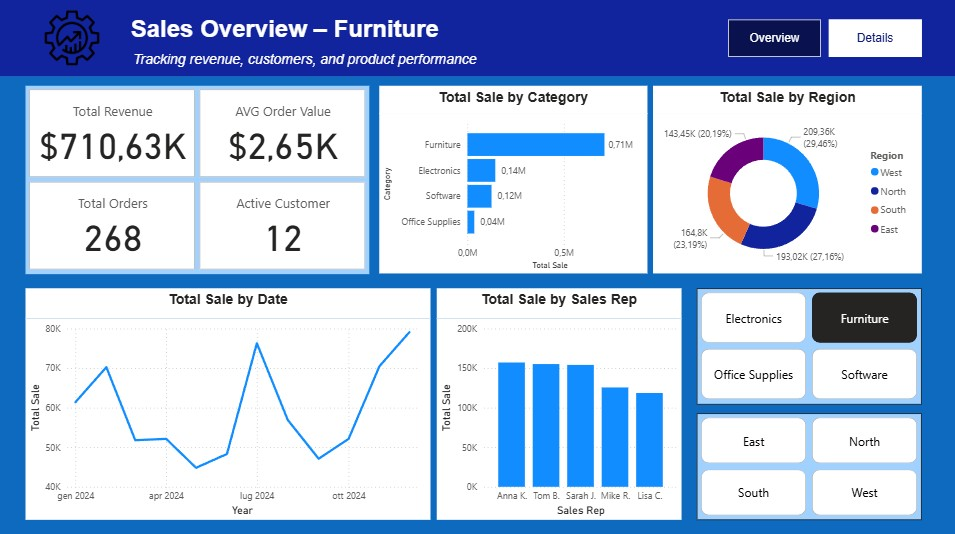

This screenshot's page, from the dashboard's own definition file:
{"tool":"powerbi","page":{"name":"Overview","canvas":[1280,720],"ordinal":0},"visuals":[{"type":"textbox","box":[10,0,280,280],"z":1000},{"type":"shape","box":[0,0,1279.7,106.8],"z":1500},{"type":"shape","box":[0,106.8,1279.7,613.2],"z":2000},{"type":"cardVisual","fields":{"Data":["SalesUS.Total Revenue","SalesUS.AVG Order Value","SalesUS.Total Orders","SalesUS.Total Customer"]},"box":[36.2,117.5,458.8,251.2],"z":3000},{"type":"lineChart","fields":{"Category":["SalesUS.date.Variation.Date Hierarchy.Year","SalesUS.date.Variation.Date Hierarchy.Quarter","SalesUS.date.Variation.Date Hierarchy.Month"],"Y":["Sum(SalesUS.total_sale)"]},"box":[36.2,428.8,540,268.8],"z":4000},{"type":"clusteredBarChart","fields":{"Y":["Sum(SalesUS.total_sale)"],"Category":["SalesUS.category"]},"box":[507.5,155,357.5,213.8],"z":5000},{"type":"donutChart","fields":{"Y":["Sum(SalesUS.total_sale)"],"Category":["SalesUS.region"]},"box":[872.5,155,358.8,213.8],"z":6000},{"type":"clusteredColumnChart","fields":{"Category":["SalesUS.sales_rep"],"Y":["Sum(SalesUS.total_sale)"]},"box":[585,428.8,326.2,268.8],"z":7000},{"type":"advancedSlicerVisual","fields":{"Values":["SalesUS.category"]},"box":[931.2,388.8,300,155],"z":8000},{"type":"advancedSlicerVisual","fields":{"Values":["SalesUS.region"]},"box":[931.2,555,300,142.5],"z":9000},{"type":"textbox","box":[174.6,67.8,479,34.6],"z":10000},{"type":"textbox","box":[585,388.8,326.2,40],"z":11000},{"type":"image","box":[36.1,13,124.1,82.2],"z":12000},{"type":"textbox","box":[36.2,388.8,540,40],"z":13000},{"type":"textbox","box":[507.5,117.5,357.5,37.5],"z":14000},{"type":"textbox","box":[872.5,117.5,358.8,37.5],"z":15000},{"type":"cardVisual","fields":{"Data":["SalesUS.Dynamic Title"]},"box":[160.1,0,526.6,72.1],"z":16000},{"type":"pageNavigator","box":[972.9,30,258.6,50],"z":16003}]}

Visuals, with their boxes in screenshot pixels (x1, y1, x2, y2), scaled from the page's 1280x720 canvas onto the 955x534 screenshot:
textbox: (7,0,216,208)
shape: (0,0,954,79)
shape: (0,79,954,533)
cardVisual - SalesUS.Total Revenue x SalesUS.AVG Order Value: (27,87,369,273)
lineChart - SalesUS.date.Variation.Date Hierarchy.Year x SalesUS.date.Variation.Date Hierarchy.Quarter: (27,318,430,517)
clusteredBarChart - Sum(SalesUS.total_sale) x SalesUS.category: (379,115,645,274)
donutChart - Sum(SalesUS.total_sale) x SalesUS.region: (651,115,919,274)
clusteredColumnChart - SalesUS.sales_rep x Sum(SalesUS.total_sale): (436,318,680,517)
advancedSlicerVisual - SalesUS.category: (695,288,919,403)
advancedSlicerVisual - SalesUS.region: (695,412,919,517)
textbox: (130,50,488,76)
textbox: (436,288,680,318)
image: (27,10,120,71)
textbox: (27,288,430,318)
textbox: (379,87,645,115)
textbox: (651,87,919,115)
cardVisual - SalesUS.Dynamic Title: (119,0,512,53)
pageNavigator: (726,22,919,59)
